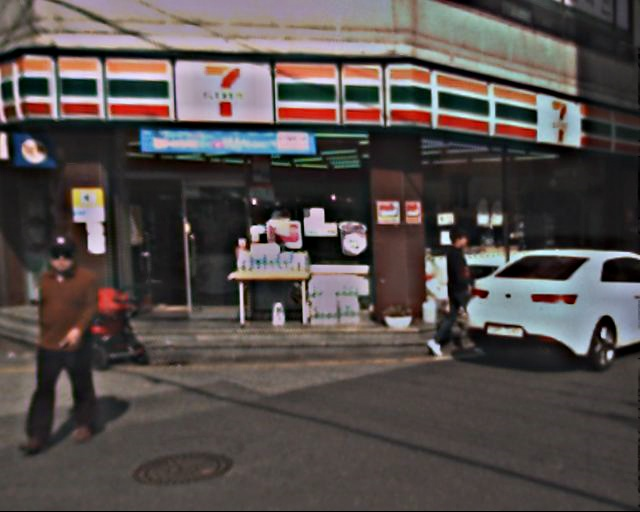person: (15, 233, 131, 449), (429, 228, 490, 355)
